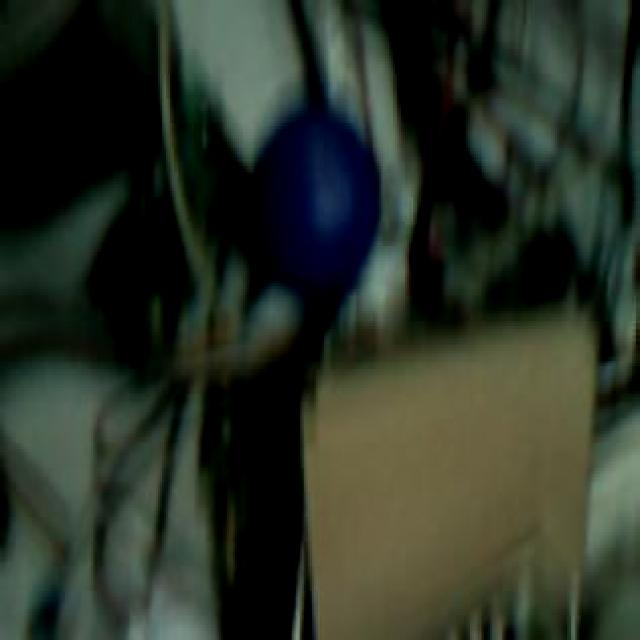BallPurple: (250, 104, 380, 295)
